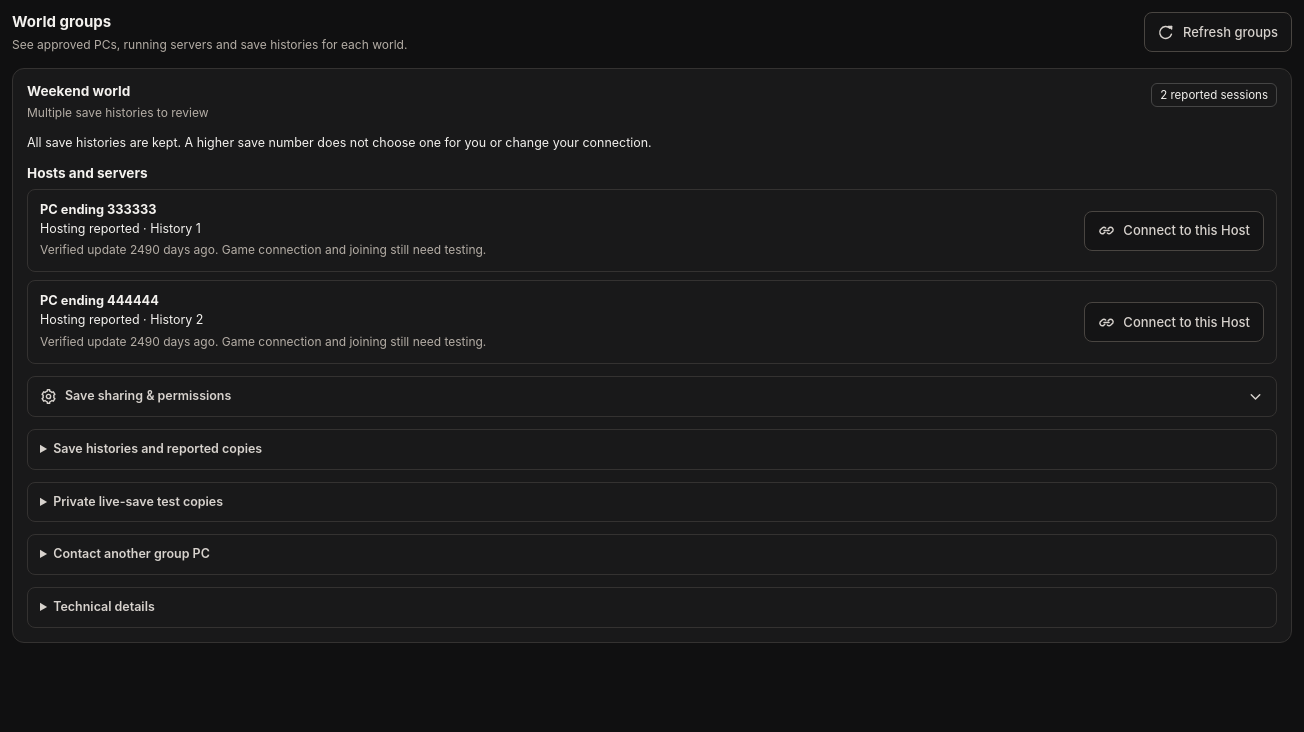
Test: World groups › shows cached ages after refresh failure without disconnecting or dropping histories
This screenshot has width=1304, height=732.
Click the button "Refresh groups". click: click(1218, 32)
box: top-left (1144, 12), bottom-right (1292, 52)
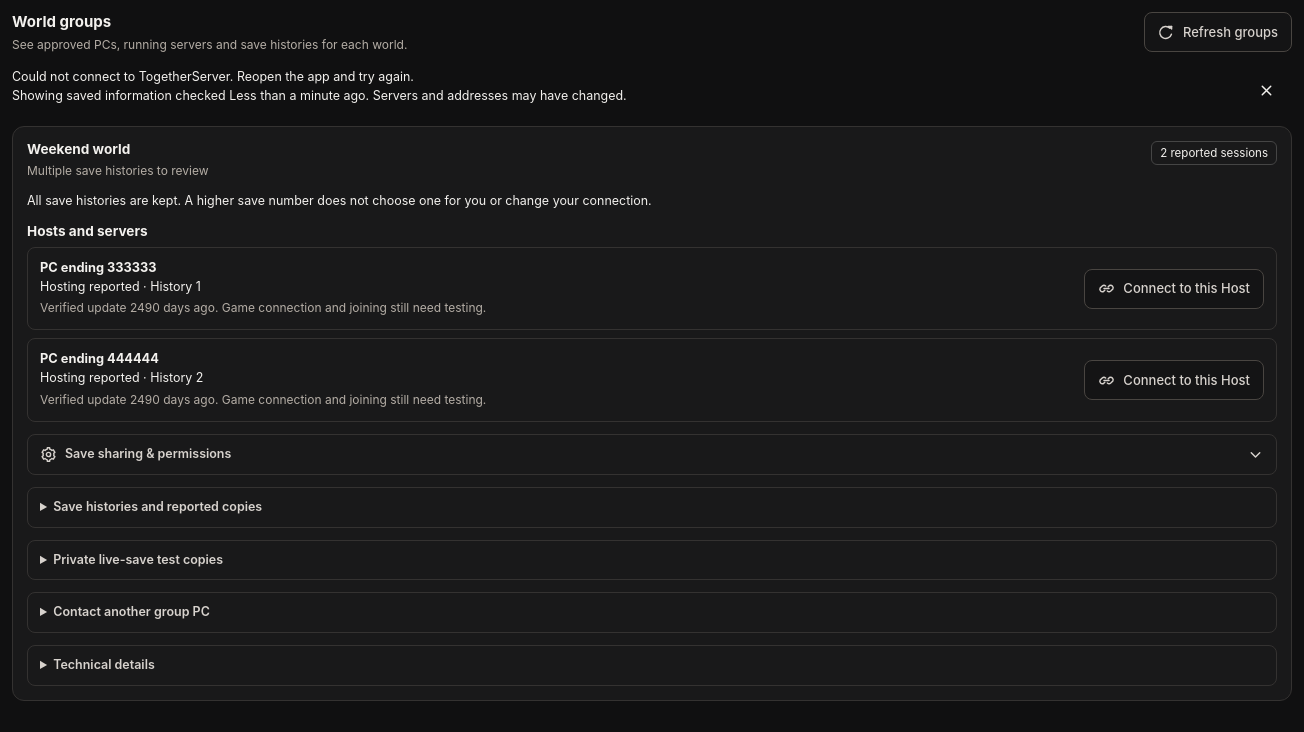
Result: the message shows "Showing saved information checked" at top-left (12, 88), bottom-right (627, 103)
Result: the number of buttons "Connect to this Host" is 2 at top-left (1084, 269), bottom-right (1264, 309); top-left (1084, 360), bottom-right (1264, 400)
